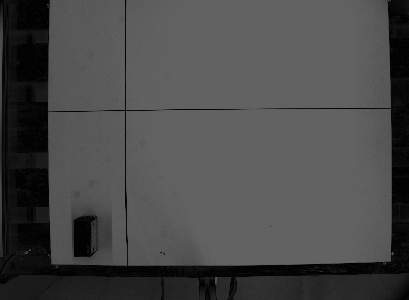b3: (71, 214, 98, 259)
